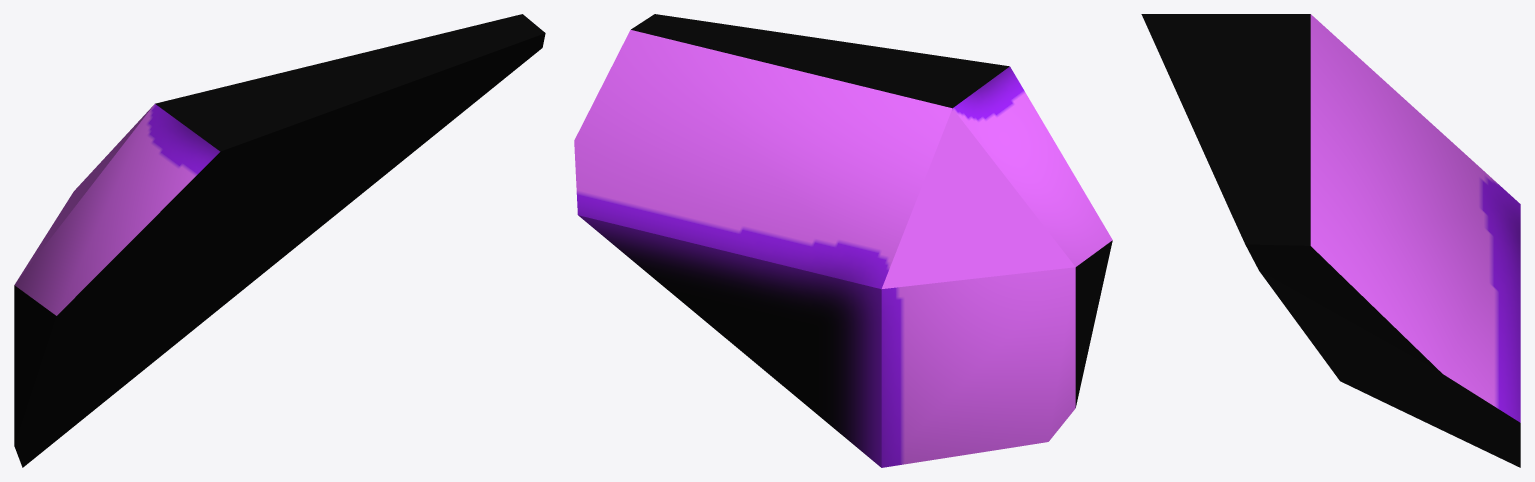
The model's file is blockParticle_13.obj.
The picture shows the model from 3 angles, left to right: view 1: azimuth 30°, elevation 25°; view 2: azimuth 150°, elevation 25°; view 3: azimuth 270°, elevation 25°; orthographic projection. The views are drawn at different scales.
Parts seen in each view (by area): view 1: 立方体_cell.015; view 2: 立方体_cell.015; view 3: 立方体_cell.015.
Boxes of the visible parts, <box> form: 立方体_cell.015: <box>14,14,545,467</box>; 立方体_cell.015: <box>574,14,1112,467</box>; 立方体_cell.015: <box>1141,14,1520,467</box>.
Size of the model in its own units: 0.7867 by 0.5062 by 0.3832.
2 materials, 2 textured.
